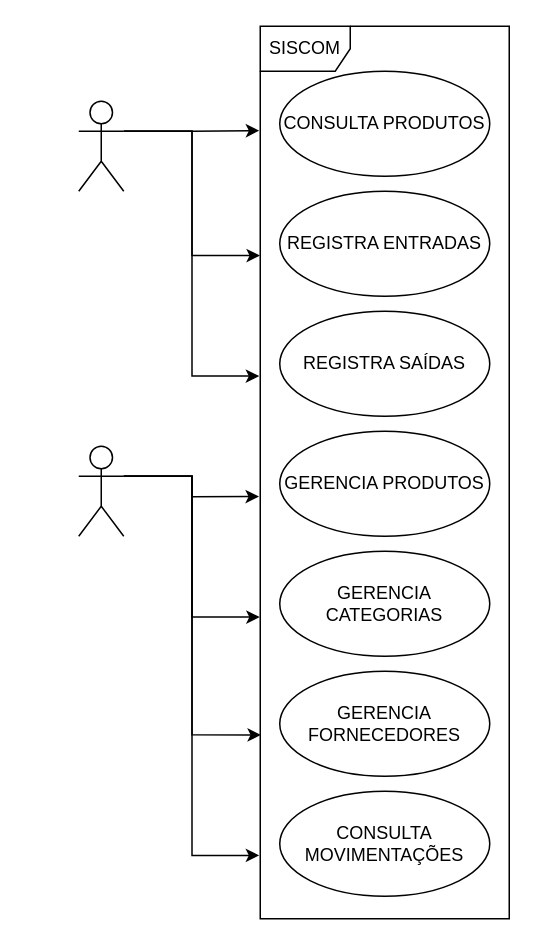
Image size: 536x945. Some labels were removed from this diagram. Each missing label, with the centre of its shape:
"ADMINISTRADOR" goes at (100,490).
"OPERADOR" goes at (100,145).
